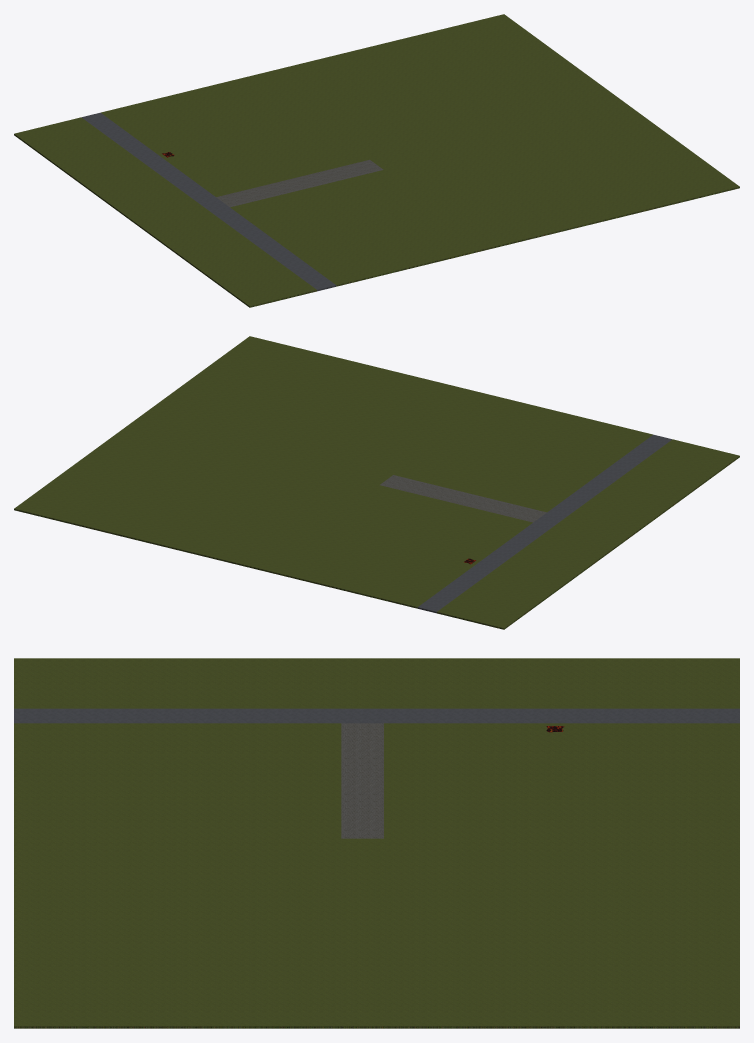
Rendered from terrain 2.fbx.
The picture shows the model from 3 angles, top to bottom: view 1: azimuth 30°, elevation 25°; view 2: azimuth 150°, elevation 25°; view 3: azimuth 270°, elevation 25°; orthographic projection. The views are drawn at different scales.
Visible parts, largest first — view 1: Plane.003; view 2: Plane.003; view 3: Plane.003.
Part boxes in pixels (bbox=[...]): Plane.003: bbox=[14, 14, 739, 307]; Plane.003: bbox=[14, 336, 739, 629]; Plane.003: bbox=[14, 658, 739, 1028].
Size of the model in its own units: 33600 by 28000 by 100.
